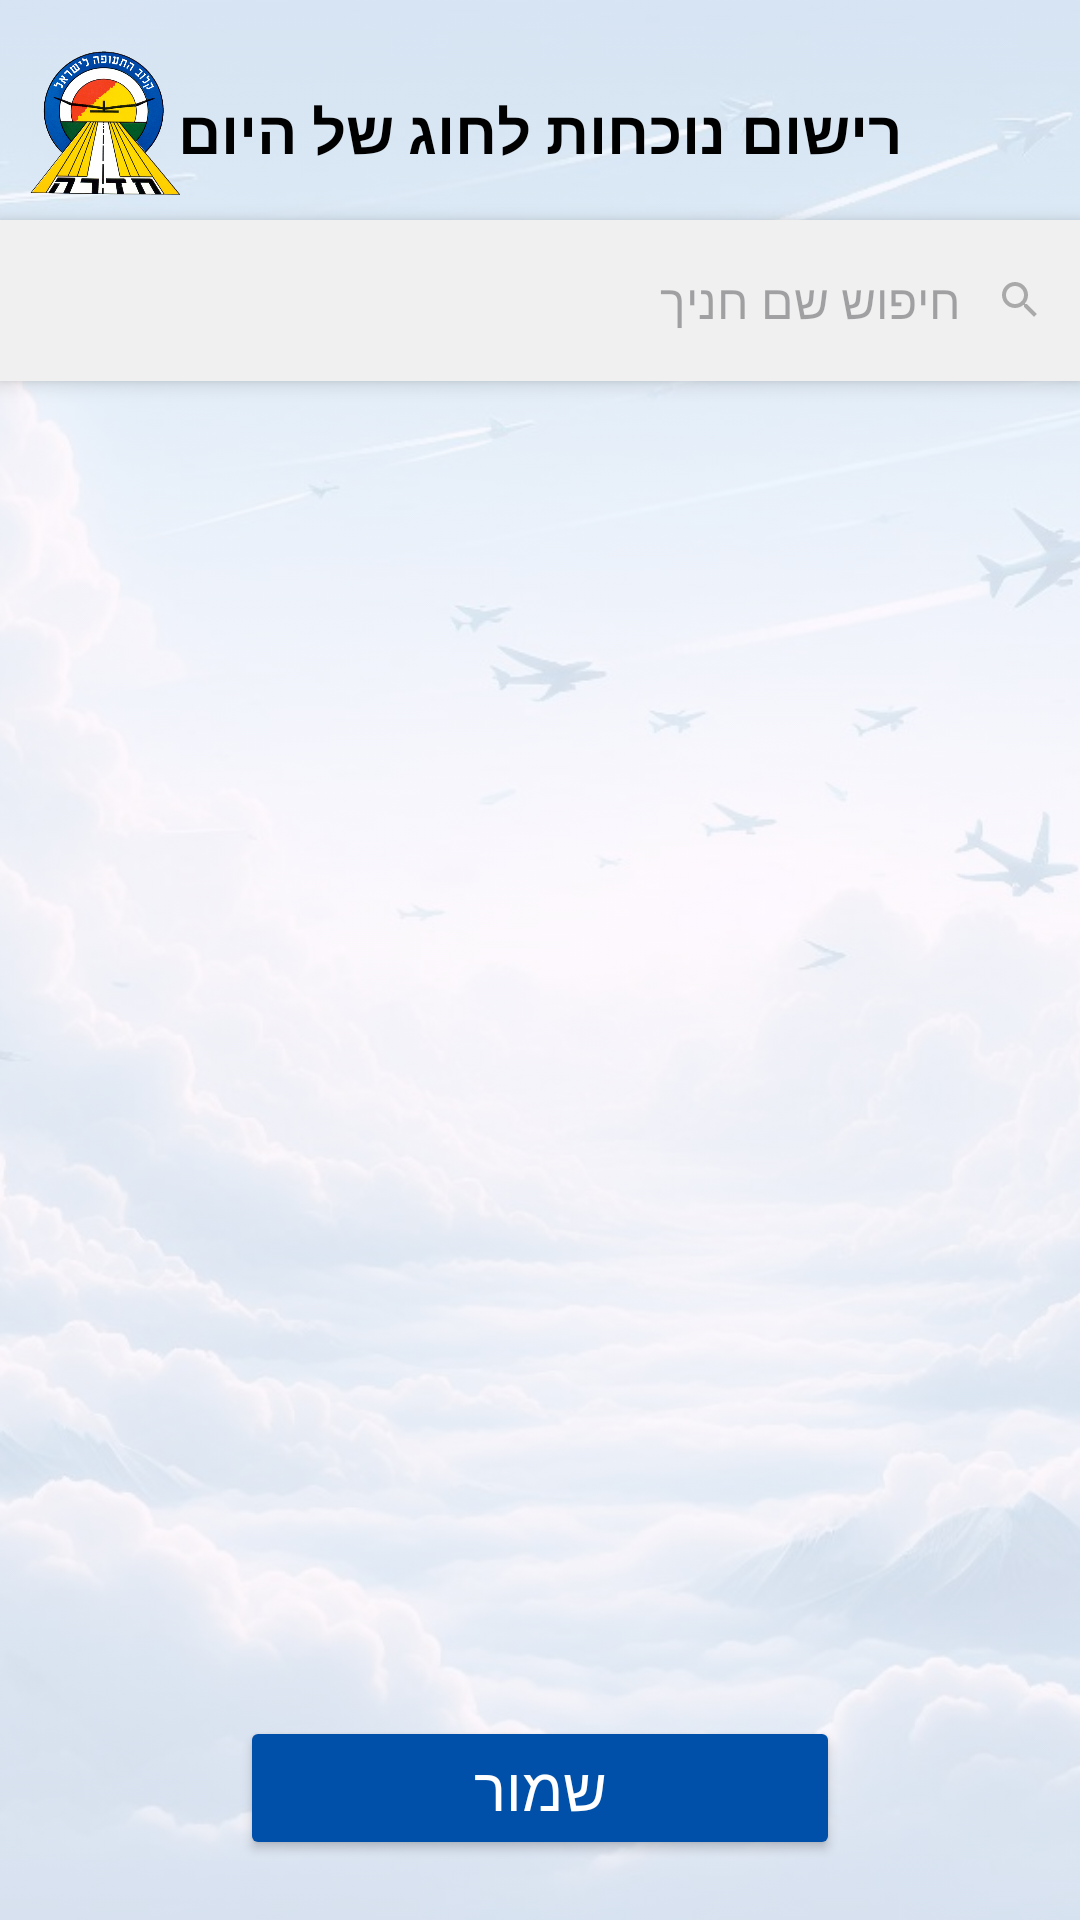

Icons on this 1080*1920 Android screen, each with the point to tap as (x,y):
search: (1019,299)
